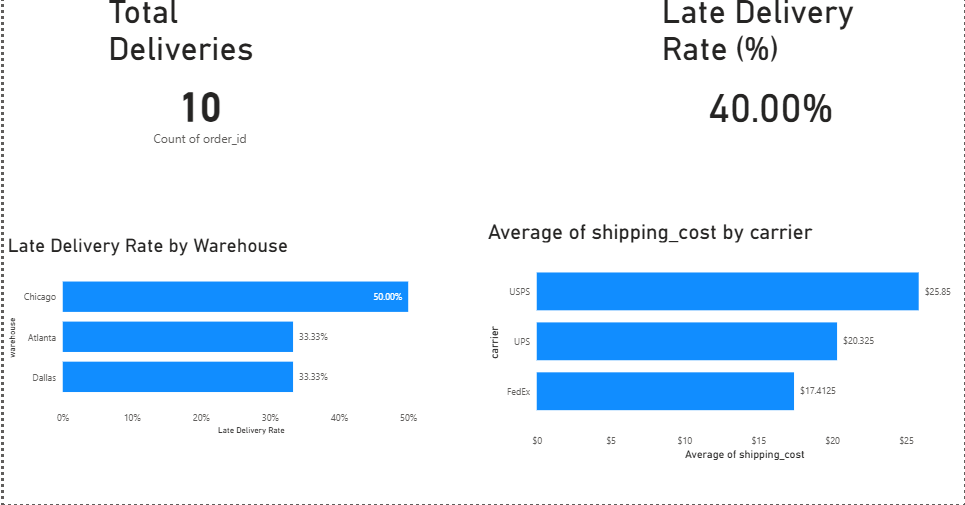

This screenshot's page, from the dashboard's own definition file:
{"tool":"powerbi","page":{"name":"Page 1","canvas":[1280,720],"ordinal":0},"visuals":[{"type":"card","title":"Total Deliveries","fields":{"Values":["CountNonNull(deliveries.order_id)"]},"box":[134,38,254,214],"z":0},{"type":"card","title":"Late Delivery Rate (%)","fields":{"Values":["deliveries.Late Delivery Rate"]},"box":[872,38,300,194],"z":1000},{"type":"clusteredBarChart","title":"Late Delivery Rate by Warehouse","fields":{"Category":["deliveries.warehouse"],"Y":["deliveries.Late Delivery Rate"]},"box":[0,360,598,272],"z":2000},{"type":"clusteredBarChart","title":"Average of Shipping Cost by Carrier","fields":{"Category":["deliveries.carrier"],"Y":["Avg(deliveries.shipping_cost)"]},"box":[640,340,640,326],"z":2001}]}

Visuals, with their boxes on the page's 1280x720 design canvas (x1, y1, x2, y2). These are canvas units, not pixel positions in the 965x505 screenshot, which may show the page scaled, cropped or inside an application window:
"Total Deliveries" card: 134, 38, 388, 252
"Late Delivery Rate (%)" card: 872, 38, 1172, 232
"Late Delivery Rate by Warehouse" clusteredBarChart: 0, 360, 598, 632
"Average of Shipping Cost by Carrier" clusteredBarChart: 640, 340, 1280, 666
